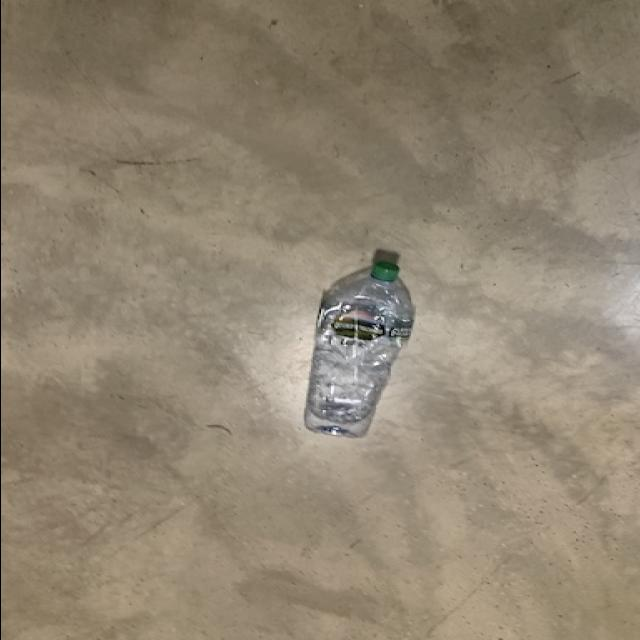litter: (300, 260, 414, 441)
